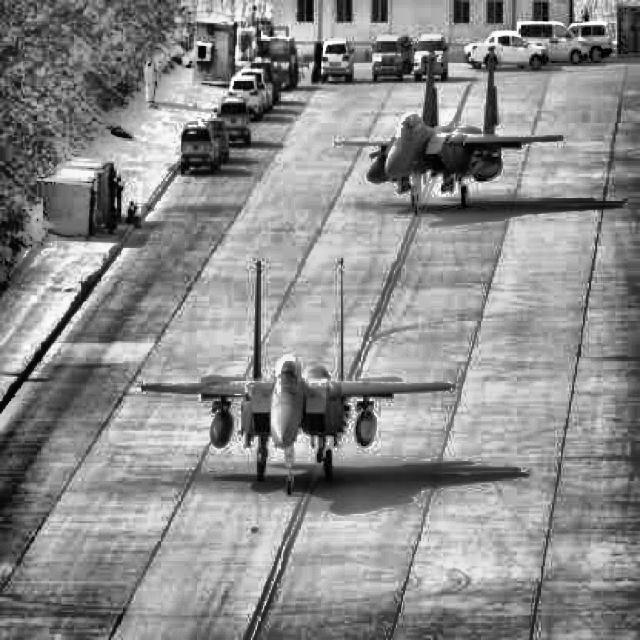F15: (138, 256, 456, 496), (330, 45, 564, 217)
